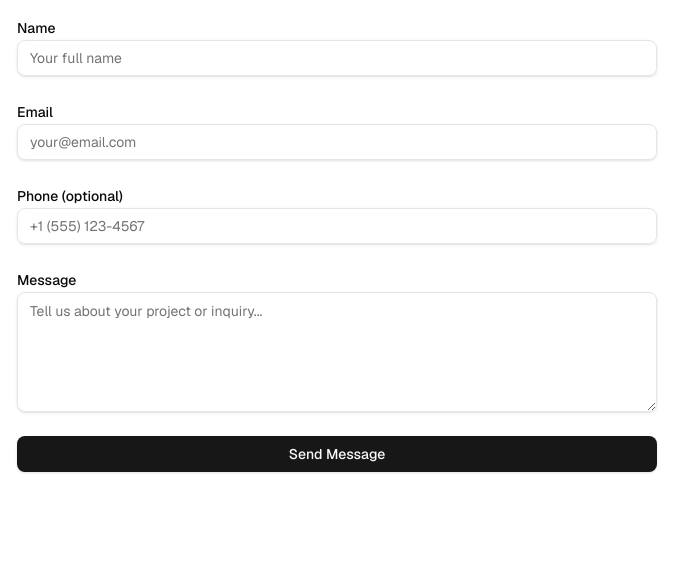
ContactForm › Rate Limit Error Handling › allows retry after rate limit error
Note: Fill and submit form (first attempt)
In the field labelled "Name": (337, 58) x1=17 y1=40 x2=657 y2=76, type "John Doe"
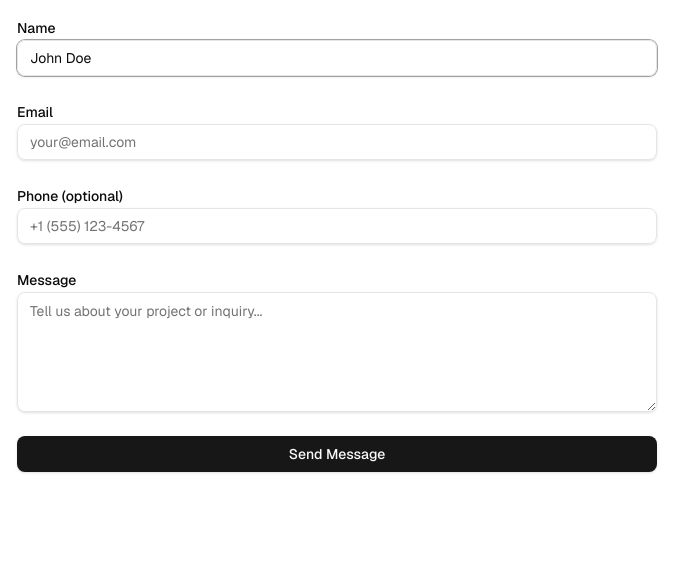
In the field labelled "Email": (337, 142) x1=17 y1=124 x2=657 y2=160, type "john@example.com"
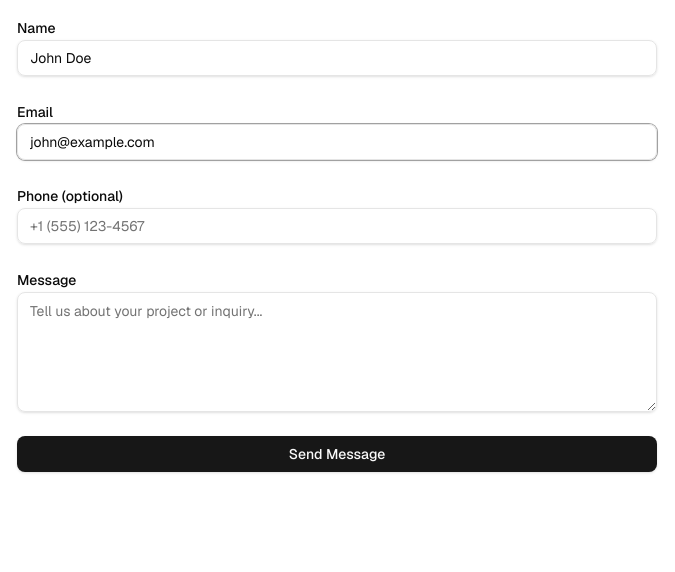
In the text box labelled "Message": (337, 352) x1=17 y1=292 x2=657 y2=412, type "Test message with enough characters"
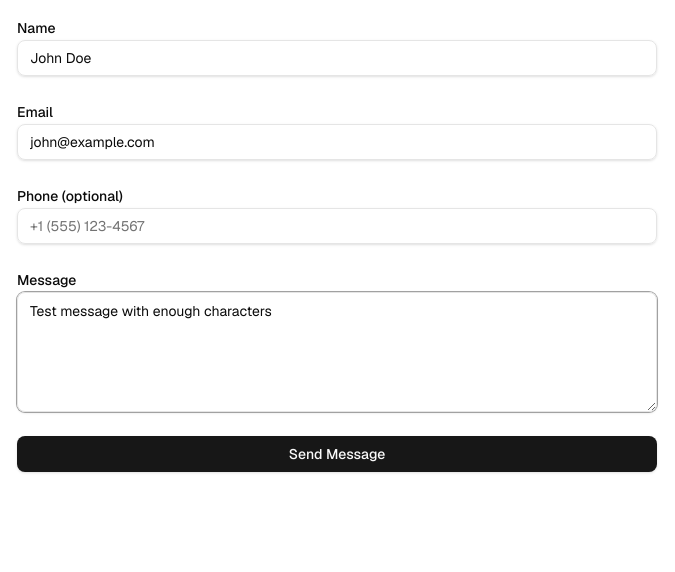
Click the button "Send Message": (337, 454) x1=17 y1=436 x2=657 y2=472
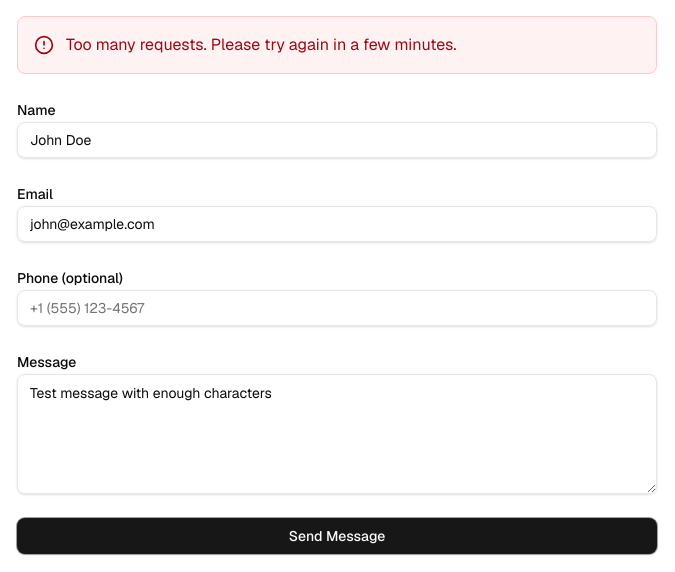
Result: the text "Too many requests. Please try again in a few minutes." is shown at x1=66 y1=33 x2=456 y2=57
Note: Try again (form should not be disabled after error)
In the field labelled "Name": (337, 140) x1=17 y1=122 x2=657 y2=158, type "Jane Doe"
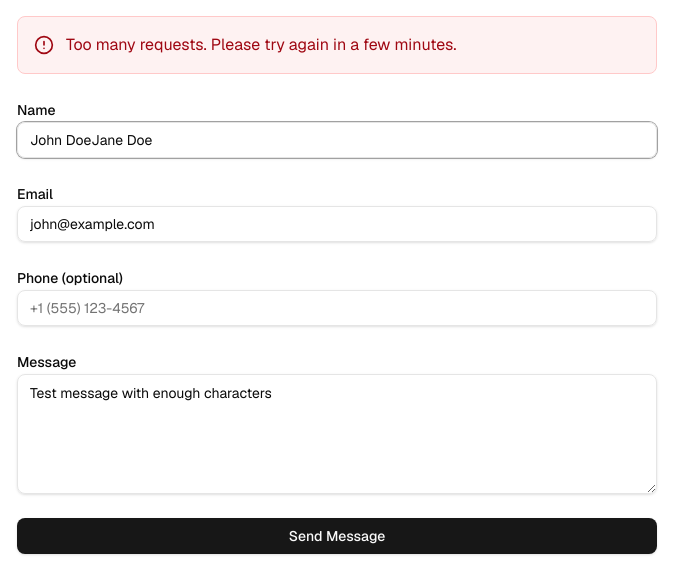
Click the button "Send Message": (337, 536) x1=17 y1=518 x2=657 y2=554
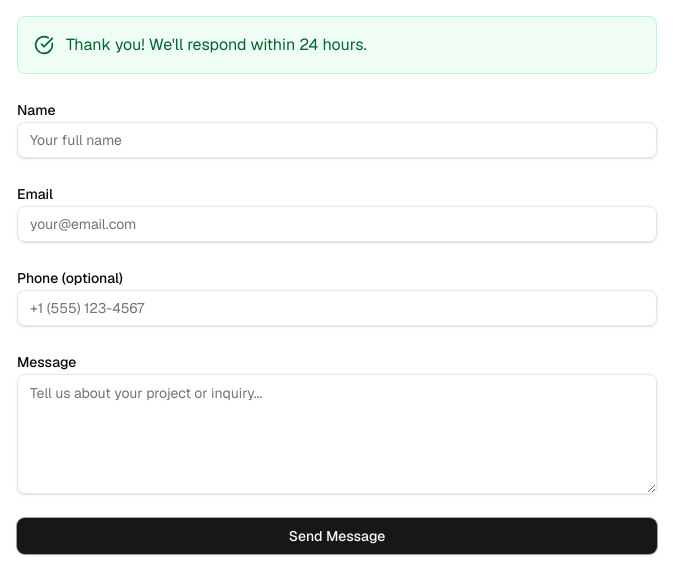
Result: the text "Thank you! We'll respond within 24 hours." is shown at x1=66 y1=33 x2=367 y2=57
